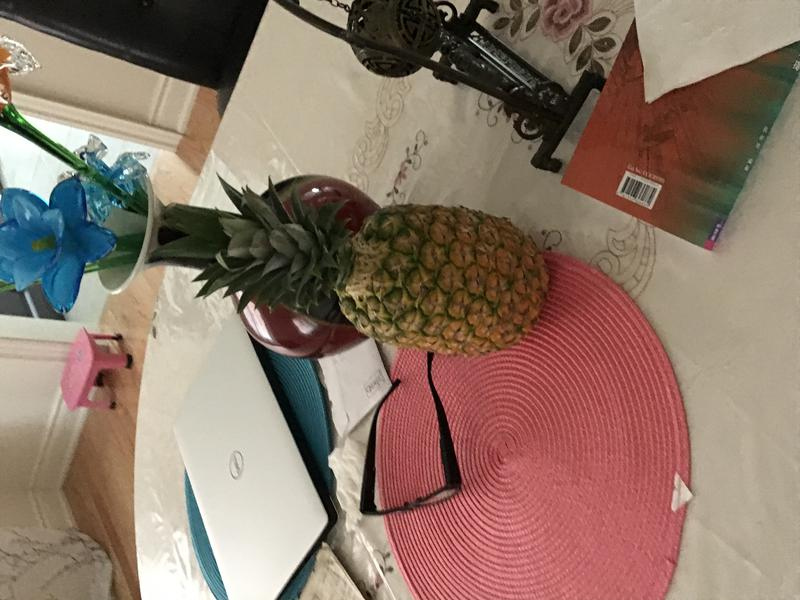pineapple: (178, 161, 551, 363)
